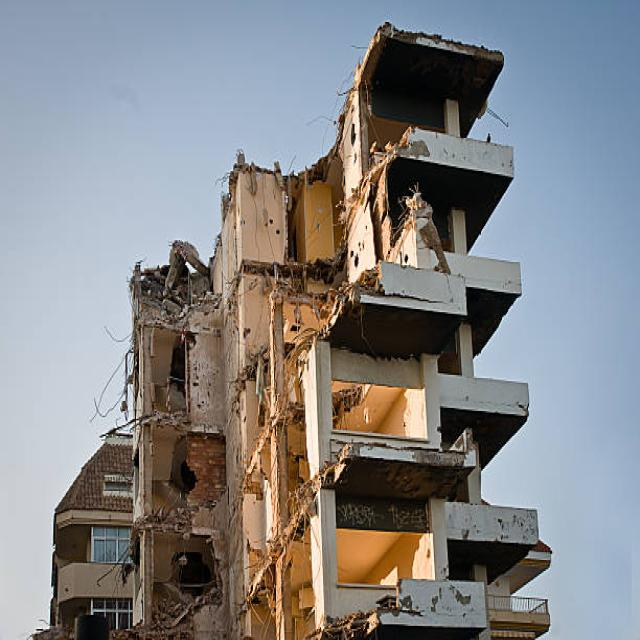Destroyed_building: (2, 0, 556, 640)
